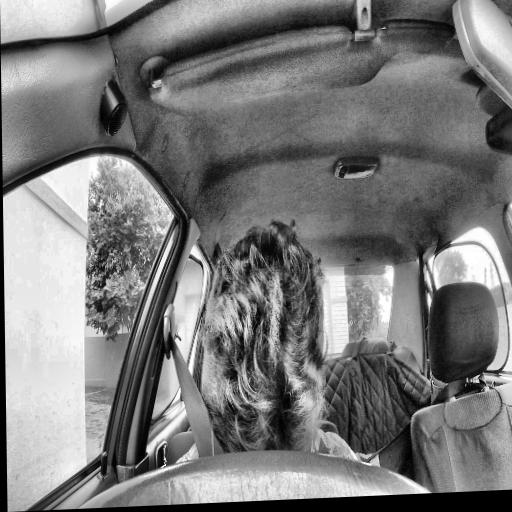drowsy: (201, 217, 332, 475)
